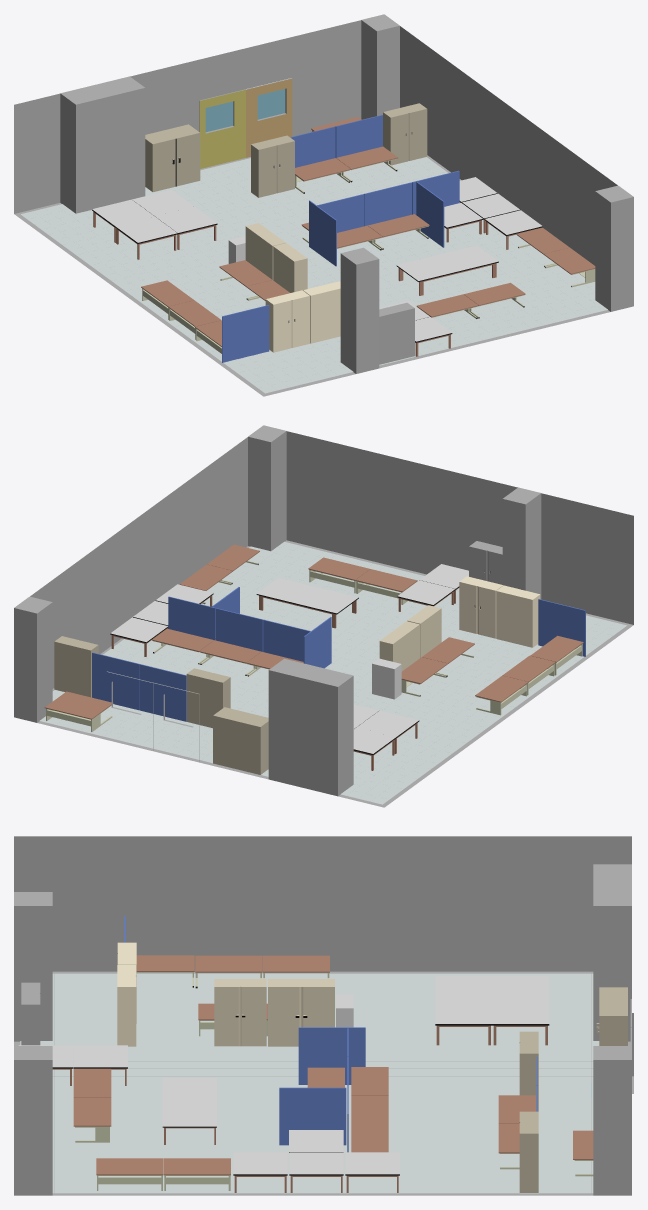
The model's file is labroom.gltf.
3 views of the same model, one above another, from view 1: azimuth 30°, elevation 25°; view 2: azimuth 150°, elevation 25°; view 3: azimuth 270°, elevation 25° (orthographic). The views are drawn at different scales.
Parts seen in each view (by area): view 1: Roomplan1, Floor, Table 1.003, Locker 02.005, Table 1.004, Locker 02.004, Locker 02.003, Locker 02.007, Wall 01, Table 1.002, Locker 02.008, Plane.001 (+18 smaller); view 2: Roomplan1, Floor, Locker 02.005, Locker 02.007, Plane.006, Table 1.003, Table 1.004, Wall 01.002, Wall 01.001, Plane.003, Table 1.002, Locker 02.003 (+17 smaller); view 3: Roomplan1, Floor, Table 1.003, Table 1.004, Locker 02.002, Locker 02.001, Plane.007, Plane.003, Wall 01.007, Wall 01.006, Table 1.002, Plane.006 (+15 smaller).
Part boxes in pixels (bbox=[...]): Roomplan1: bbox=[14, 14, 633, 396]; Floor: bbox=[21, 157, 607, 393]; Table 1.003: bbox=[92, 190, 217, 259]; Locker 02.005: bbox=[145, 124, 200, 191]; Table 1.004: bbox=[459, 177, 542, 249]; Locker 02.004: bbox=[251, 135, 294, 197]; Locker 02.003: bbox=[383, 103, 427, 165]; Locker 02.007: bbox=[265, 290, 309, 352]; Wall 01: bbox=[222, 305, 269, 362]; Table 1.002: bbox=[396, 245, 498, 295]; Locker 02.008: bbox=[379, 302, 414, 364]; Plane.001: bbox=[141, 280, 221, 339]; Roomplan1: bbox=[14, 425, 633, 807]; Floor: bbox=[40, 541, 626, 804]; Locker 02.005: bbox=[213, 707, 268, 774]; Locker 02.007: bbox=[496, 585, 540, 647]; Plane.006: bbox=[308, 557, 417, 604]; Table 1.003: bbox=[353, 704, 419, 770]; Table 1.004: bbox=[110, 584, 213, 656]; Wall 01.002: bbox=[139, 664, 186, 721]; Wall 01.001: bbox=[92, 652, 139, 710]; Plane.003: bbox=[152, 628, 303, 676]; Table 1.002: bbox=[256, 578, 358, 628]; Locker 02.003: bbox=[54, 636, 98, 697]; Roomplan1: bbox=[14, 836, 633, 1195]; Floor: bbox=[20, 973, 599, 1193]; Table 1.003: bbox=[435, 976, 549, 1045]; Table 1.004: bbox=[233, 1152, 399, 1192]; Locker 02.002: bbox=[268, 979, 334, 1046]; Locker 02.001: bbox=[214, 979, 266, 1046]; Plane.007: bbox=[96, 1158, 230, 1190]; Plane.003: bbox=[351, 1067, 388, 1152]; Wall 01.007: bbox=[279, 1087, 346, 1145]; Wall 01.006: bbox=[298, 1027, 365, 1084]; Table 1.002: bbox=[162, 1078, 216, 1144]; Plane.006: bbox=[73, 1068, 111, 1142].
Bounding box in the file's own units: 9.46 × 2.67 × 11.08.
